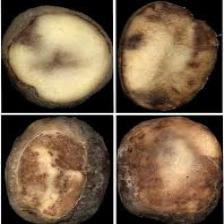Diseased-fungal potato: (3, 3, 114, 111), (3, 115, 111, 224), (116, 1, 219, 112), (117, 116, 222, 224)
